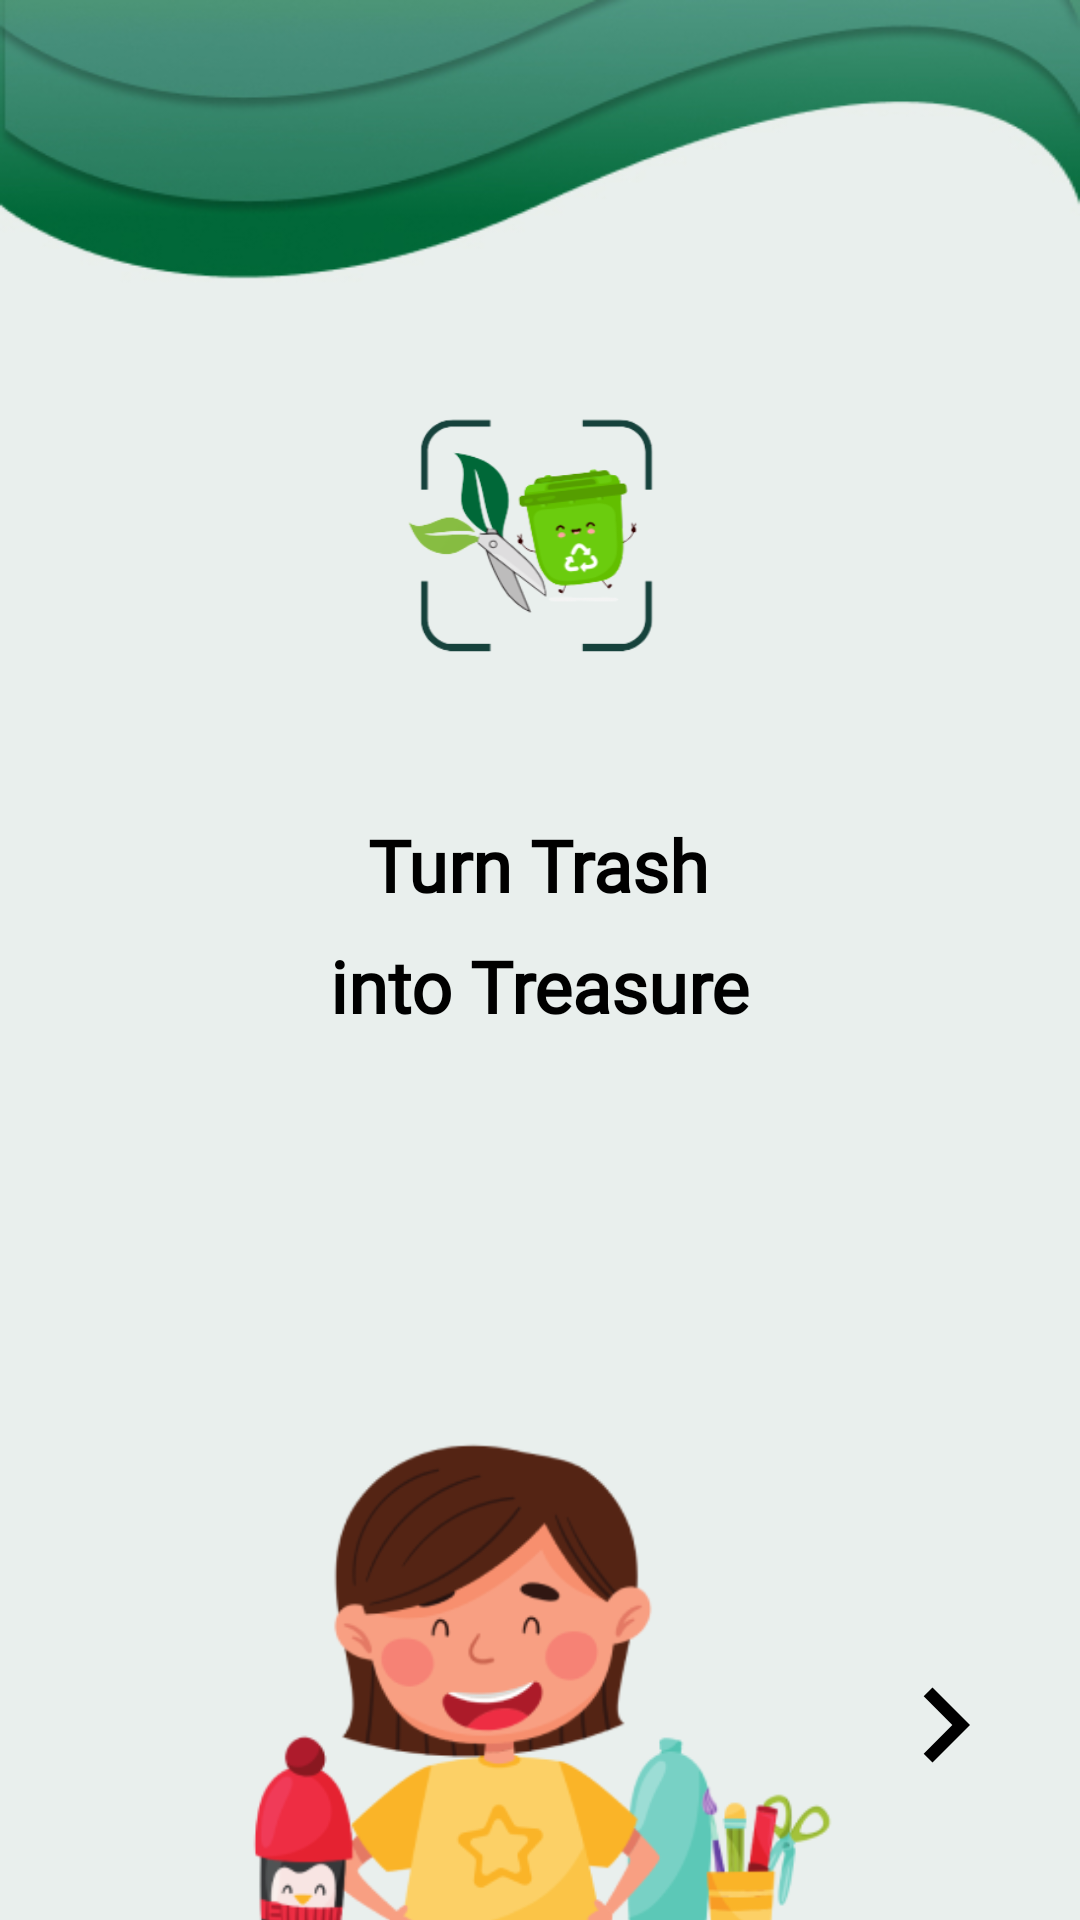

Where icons sit on this 1080x1920 app screen, as (x1,y1,x2,y2):
Next: (924,1687,970,1763)
